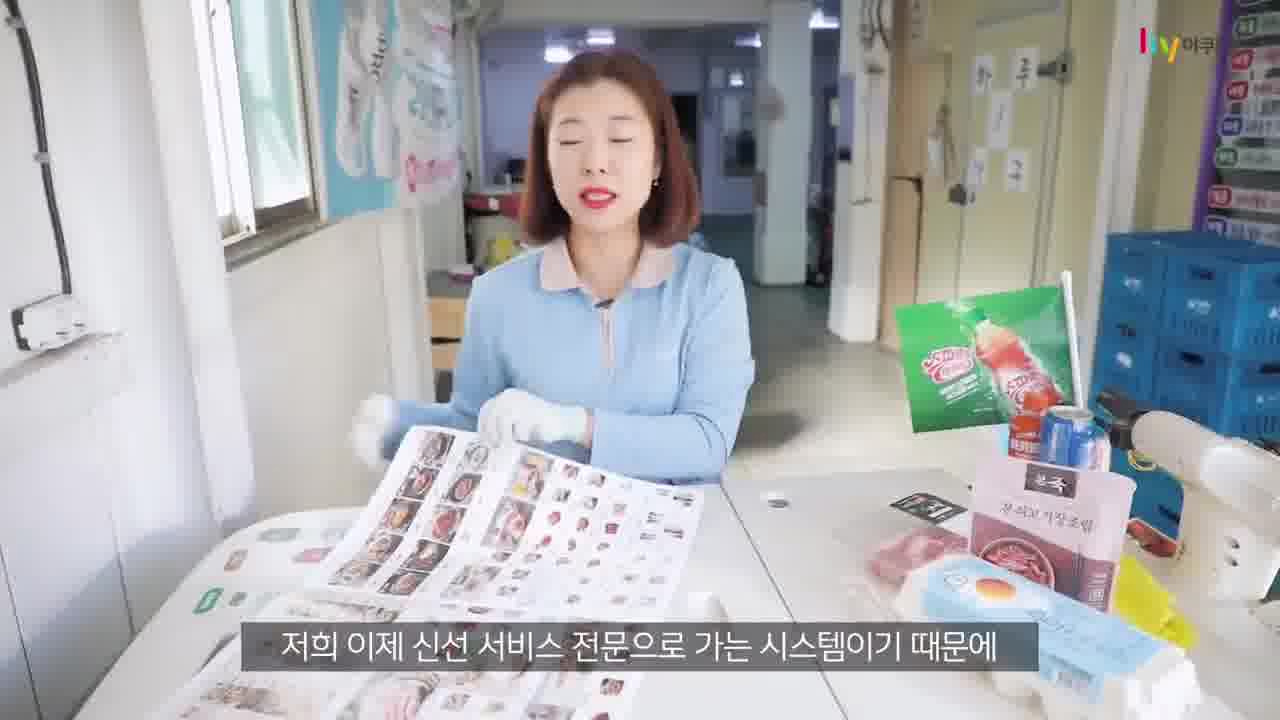Yakurut: (358, 44, 770, 494)
